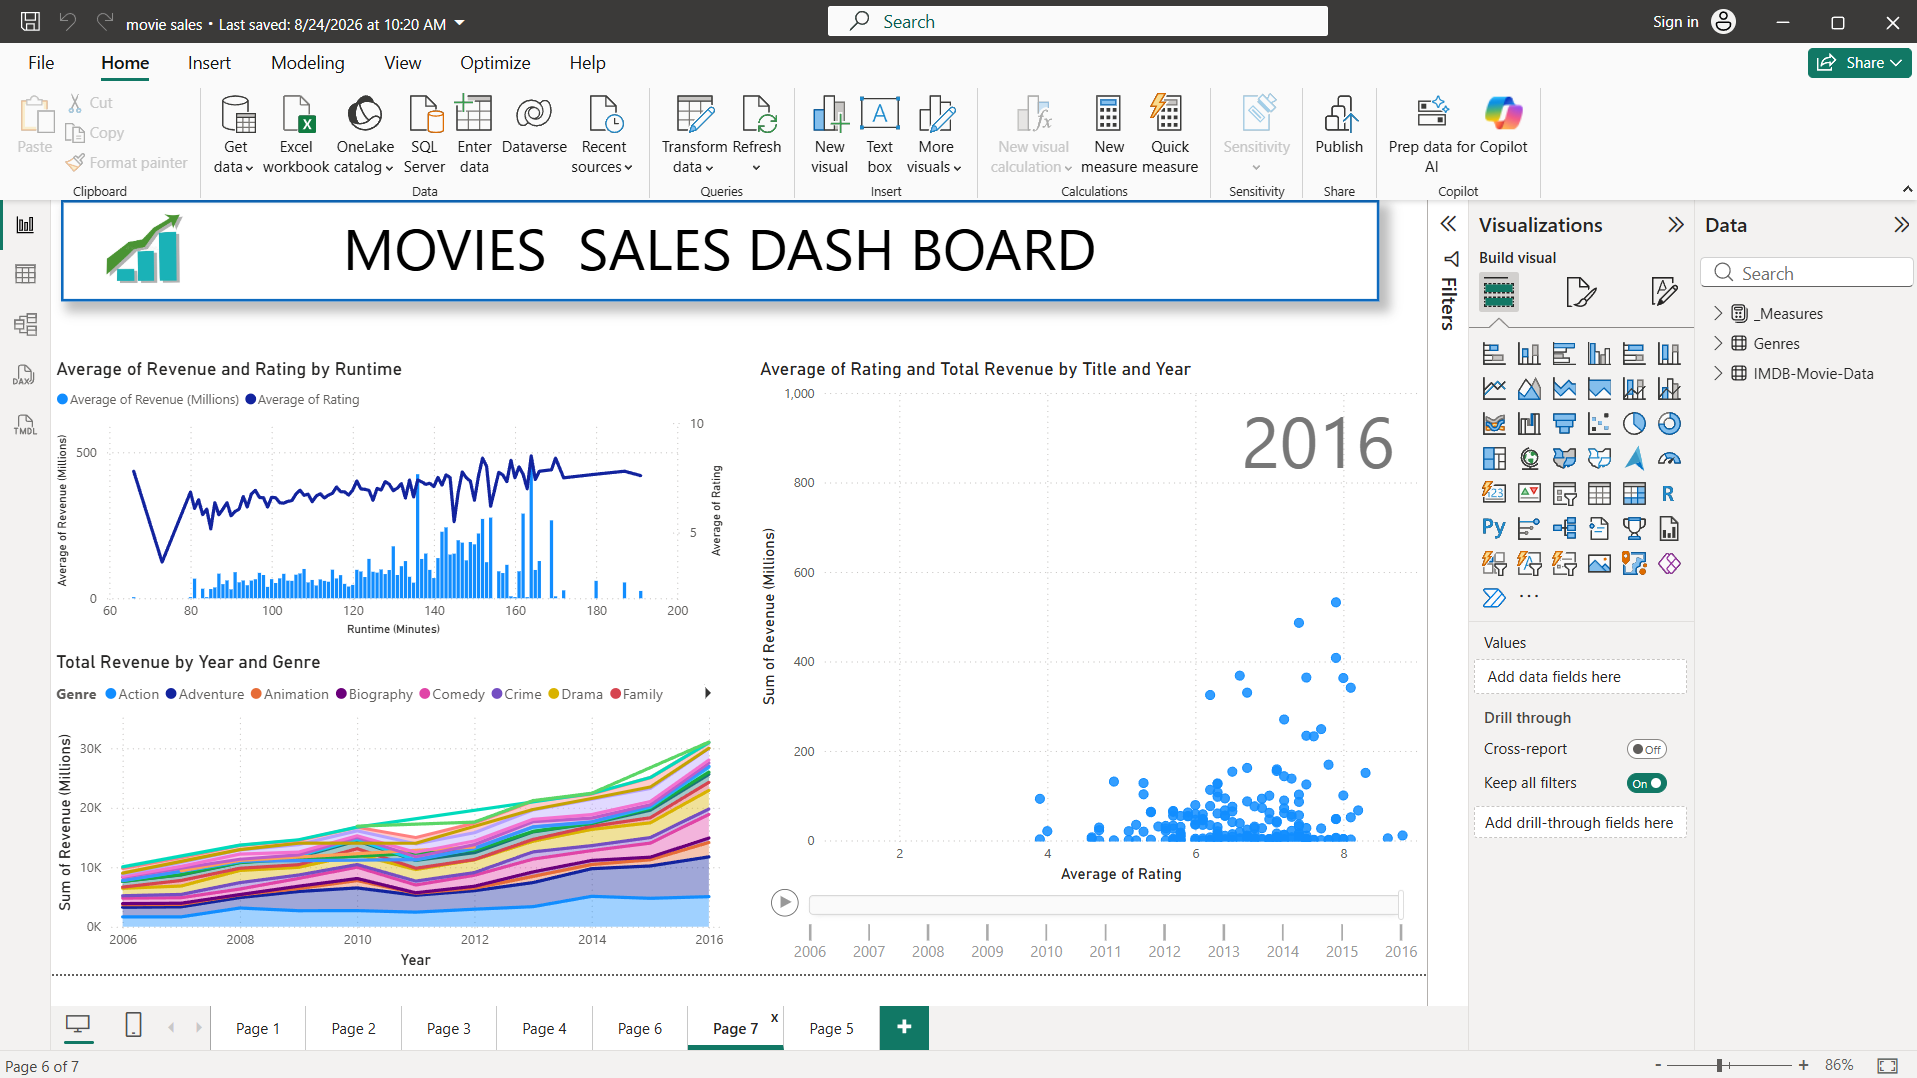

The page's visual inventory and layout, read from the dashboard file:
{"tool":"powerbi","page":{"name":"Page 7","canvas":[1280,720],"ordinal":5},"visuals":[{"type":"lineClusteredColumnComboChart","title":"Average of Revenue and Rating by Runtime","fields":{"Category":["IMDB-Movie-Data.Runtime (Minutes)"],"Y":["Avg(IMDB-Movie-Data.Revenue (Millions))"],"Y2":["Avg(IMDB-Movie-Data.Rating)"]},"box":[0,146.5,630.2,264],"z":0},{"type":"scatterChart","title":"Average of Rating and Total Revenue by Title and Year","fields":{"Category":["IMDB-Movie-Data.Title"],"X":["IMDB-Movie-Data.Rating"],"Y":["IMDB-Movie-Data.Revenue (Millions)"],"Play":["IMDB-Movie-Data.Year"]},"box":[654.7,146.5,625.6,573.3],"z":1000},{"type":"stackedAreaChart","title":"Total Revenue by Year and Genre","fields":{"Category":["IMDB-Movie-Data.Year"],"Y":["Sum(IMDB-Movie-Data.Revenue (Millions))"],"Series":["Genres.Genre"]},"box":[0,419.8,630.2,300],"z":2000},{"type":"textbox","box":[9.3,0,1226.7,94.2],"z":3000},{"type":"image","box":[0,3.5,169.8,80.2],"z":4000}]}

Visuals, with their boxes on the page's 1280x720 design canvas (x1, y1, x2, y2). These are canvas units, not pixel positions in the 1917x1078 screenshot, which may show the page scaled, cropped or inside an application window:
"Average of Revenue and Rating by Runtime" lineClusteredColumnComboChart: {"left": 0, "top": 146, "right": 630, "bottom": 410}
"Average of Rating and Total Revenue by Title and Year" scatterChart: {"left": 655, "top": 146, "right": 1280, "bottom": 720}
"Total Revenue by Year and Genre" stackedAreaChart: {"left": 0, "top": 420, "right": 630, "bottom": 720}
textbox: {"left": 9, "top": 0, "right": 1236, "bottom": 94}
image: {"left": 0, "top": 4, "right": 170, "bottom": 84}
